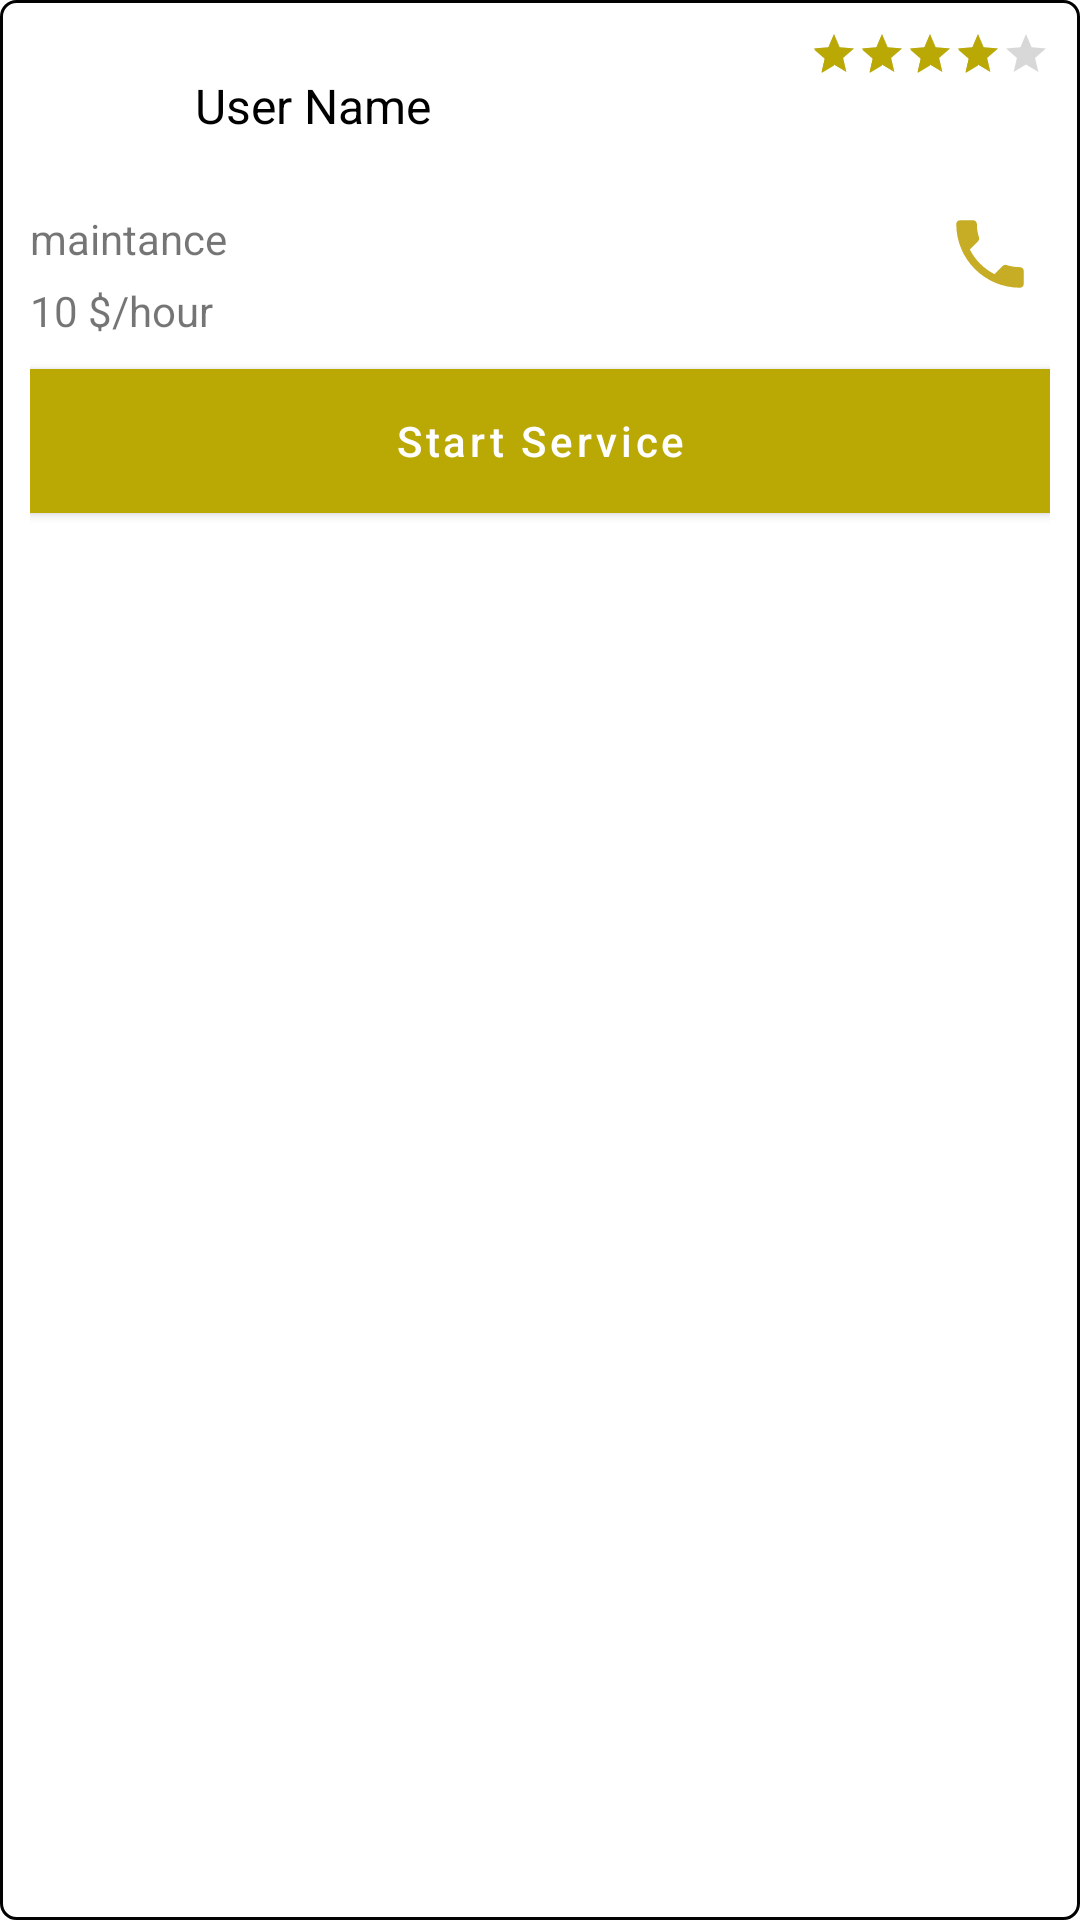

Point at icon controls on the screen. Image size 1080w x 1920h, points as (x=x, y=y).
call: (x=990, y=254)
